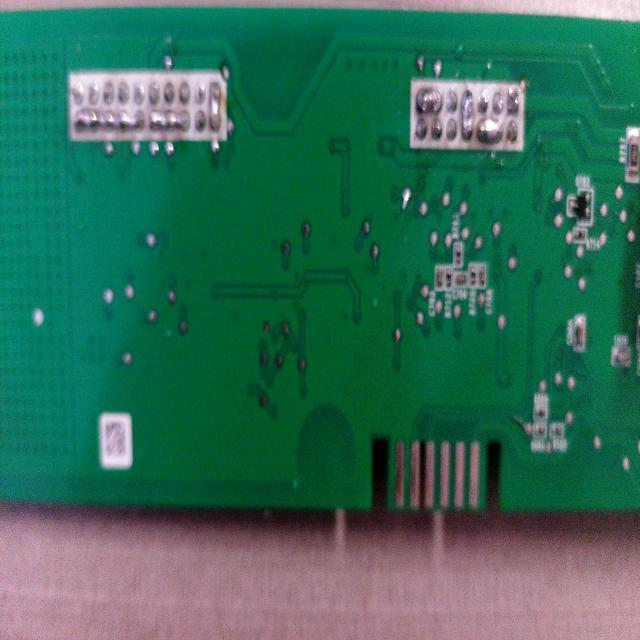Soldering shorted: (70, 112, 146, 134), (150, 108, 190, 136), (206, 78, 222, 138), (459, 89, 475, 148), (476, 116, 506, 146), (416, 86, 442, 114)
